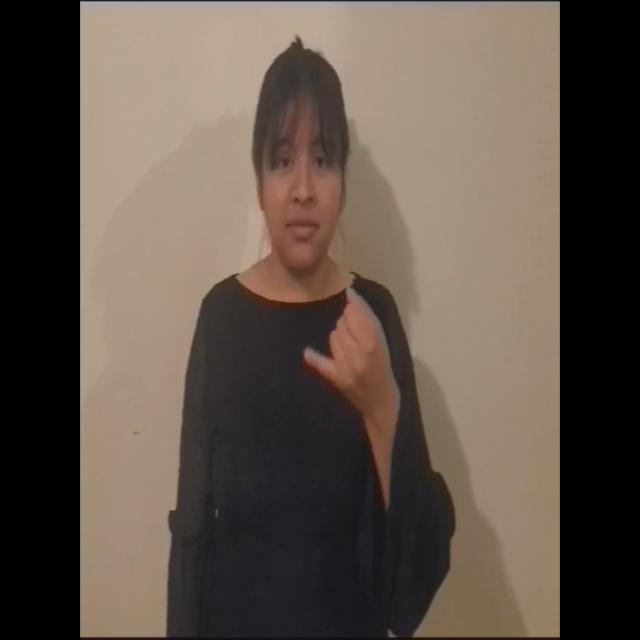J: (286, 270, 406, 427)
